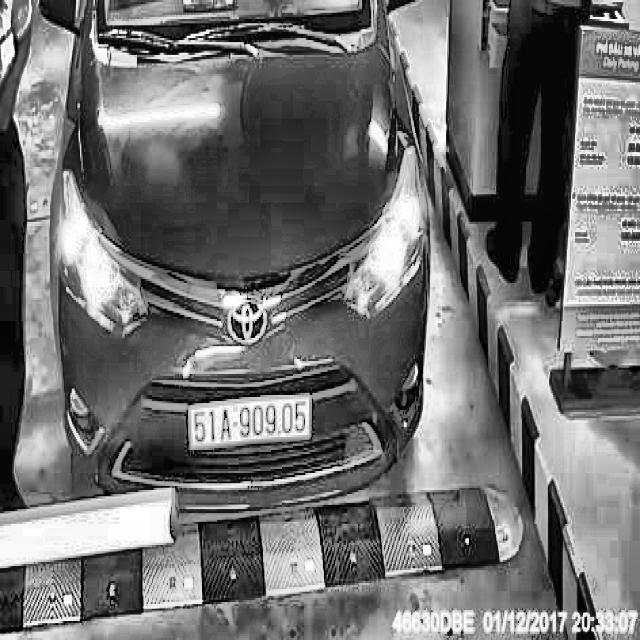plate: (184, 391, 314, 454)
